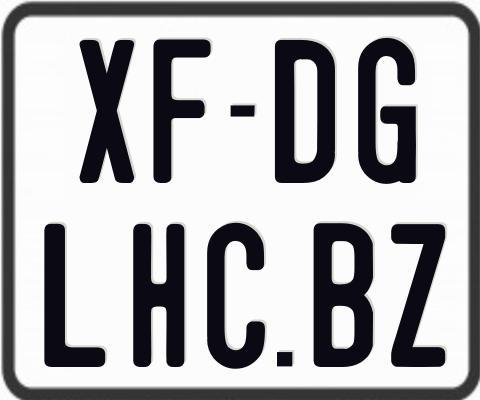B: (311, 222, 375, 372)
C: (207, 222, 267, 368)
D: (272, 38, 337, 183)
F: (152, 36, 214, 183)
G: (355, 35, 418, 181)
H: (132, 221, 183, 367)
L: (43, 224, 109, 371)
X: (79, 38, 133, 186)
Z: (388, 221, 444, 365)
